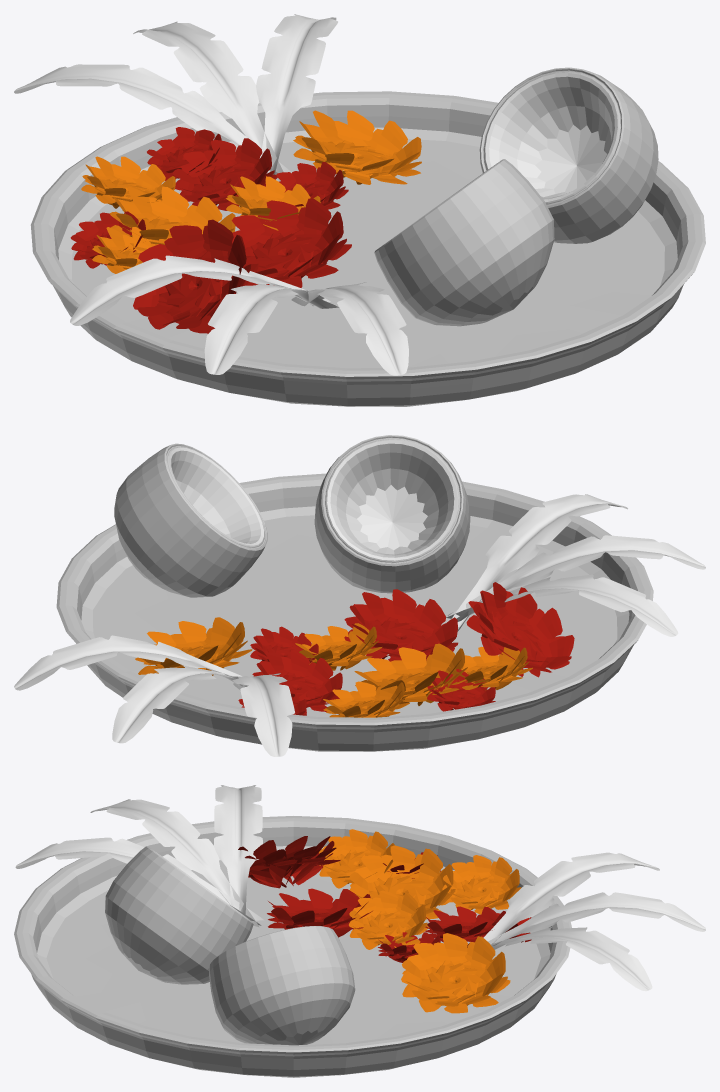
Rendered from havanprop2.fbx.
3 renders of one model, top to bottom at view 1: azimuth 30°, elevation 25°; view 2: azimuth 150°, elevation 25°; view 3: azimuth 270°, elevation 25°, orthographic. The views are drawn at different scales.
Parts seen in each view (by area): view 1: Cylinder.014, Cylinder.016, Cylinder.015, Plane.006, Plane.005, Cube.228, Cube.229, Cube.232, Cube.231, Cube.227, Cube.560, Cube.558 (+4 smaller); view 2: Cylinder.014, Cylinder.015, Cylinder.016, Plane.005, Plane.006, Cube.228, Cube.229, Cube.227, Cube.232, Cube.231, Cube.558, Cube.560 (+3 smaller); view 3: Cylinder.014, Cylinder.016, Cylinder.015, Plane.005, Plane.006, Cube.232, Cube.227, Cube.558, Cube.560, Cube.228, Cube.229, Cube.559 (+2 smaller).
Part boxes in pixels (<box>): Cylinder.014: <box>30,91,705,406</box>; Cylinder.016: <box>479,67,658,243</box>; Cylinder.015: <box>374,159,554,326</box>; Plane.006: <box>14,14,337,181</box>; Plane.005: <box>70,255,408,375</box>; Cube.228: <box>133,219,258,333</box>; Cube.229: <box>231,198,351,287</box>; Cube.232: <box>293,110,421,184</box>; Cube.231: <box>172,138,277,210</box>; Cube.227: <box>109,186,235,250</box>; Cube.560: <box>81,156,175,210</box>; Cube.558: <box>226,176,320,230</box>; Cylinder.014: <box>56,473,653,751</box>; Cylinder.015: <box>314,435,470,593</box>; Cylinder.016: <box>114,443,267,597</box>; Plane.005: <box>443,494,705,636</box>; Plane.006: <box>14,635,294,756</box>; Cube.228: <box>466,582,574,677</box>; Cube.229: <box>344,589,458,661</box>; Cube.227: <box>354,643,467,705</box>; Cube.232: <box>135,617,252,675</box>; Cube.231: <box>252,650,342,714</box>; Cube.558: <box>295,623,382,670</box>; Cube.560: <box>323,679,409,717</box>; Cylinder.014: <box>14,816,571,1077</box>; Cylinder.016: <box>209,926,355,1045</box>; Cylinder.015: <box>105,846,253,984</box>; Plane.005: <box>15,785,263,927</box>; Plane.006: <box>483,852,705,991</box>; Cube.232: <box>401,933,510,1013</box>; Cube.227: <box>349,845,455,919</box>; Cube.558: <box>348,890,429,949</box>; Cube.560: <box>442,855,521,914</box>; Cube.228: <box>238,836,340,888</box>; Cube.229: <box>267,888,372,937</box>; Cube.559: <box>319,829,394,888</box>.
Size of the model in its own units: 35.95 by 11.58 by 41.81.
